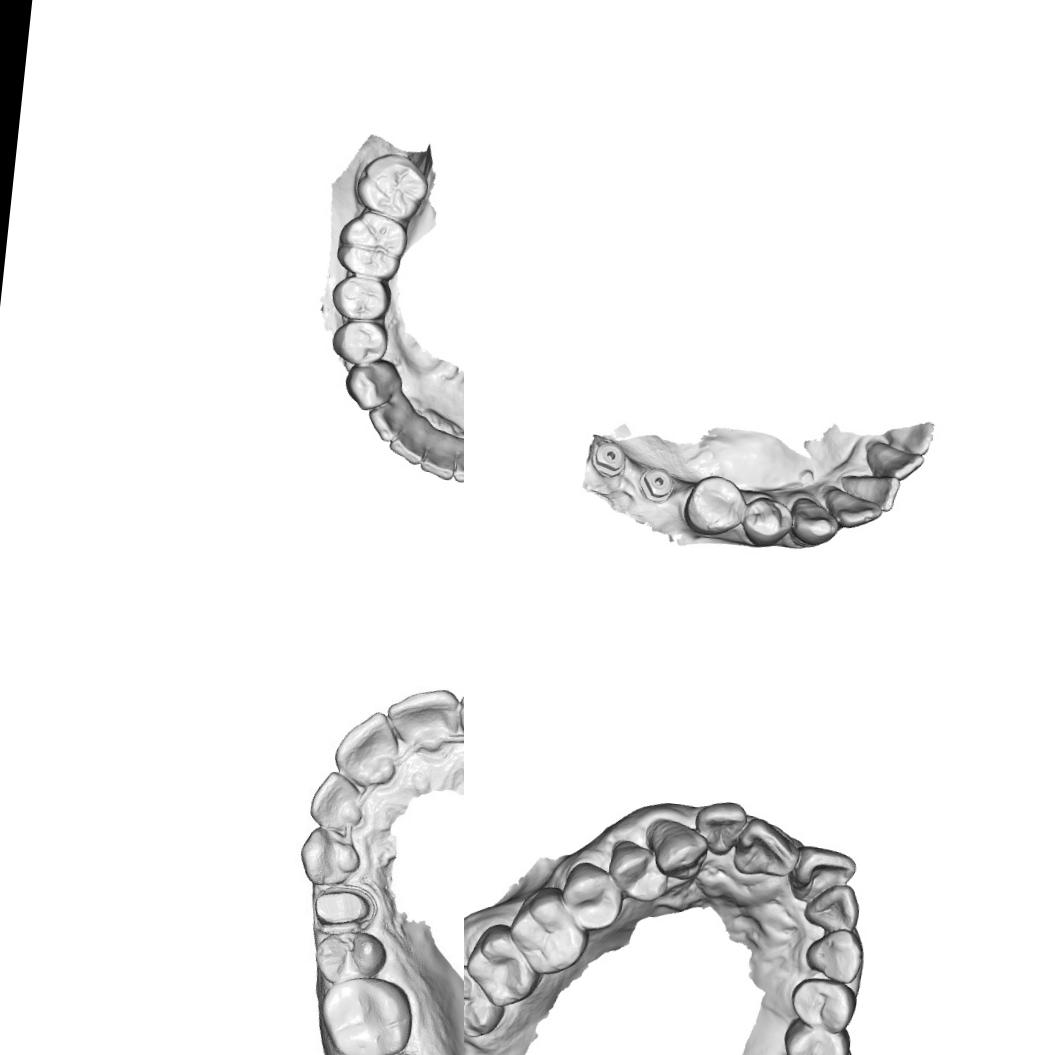canine: (642, 815, 711, 882), (296, 826, 364, 890), (802, 924, 868, 984), (340, 356, 403, 414), (787, 494, 842, 552)
crown: (310, 878, 376, 934)
implant: (588, 438, 629, 480), (636, 464, 678, 504)
incisor: (329, 704, 404, 792), (382, 682, 463, 756), (730, 813, 804, 883), (304, 767, 374, 837), (788, 843, 860, 907), (802, 880, 864, 937), (692, 798, 750, 858), (819, 486, 886, 534), (860, 439, 926, 484), (836, 470, 901, 514), (364, 394, 414, 445), (880, 414, 937, 458), (386, 413, 430, 467), (418, 430, 458, 482), (450, 434, 464, 488)
molar: (504, 882, 596, 980), (314, 971, 418, 1055), (464, 919, 545, 1011), (352, 148, 434, 226), (334, 208, 410, 282), (464, 960, 509, 1041)
premolar: (557, 859, 628, 934), (310, 925, 390, 988), (680, 471, 749, 540), (604, 838, 672, 906), (786, 974, 859, 1037), (327, 272, 396, 324), (738, 493, 796, 551), (329, 317, 392, 368), (779, 1014, 853, 1055)
